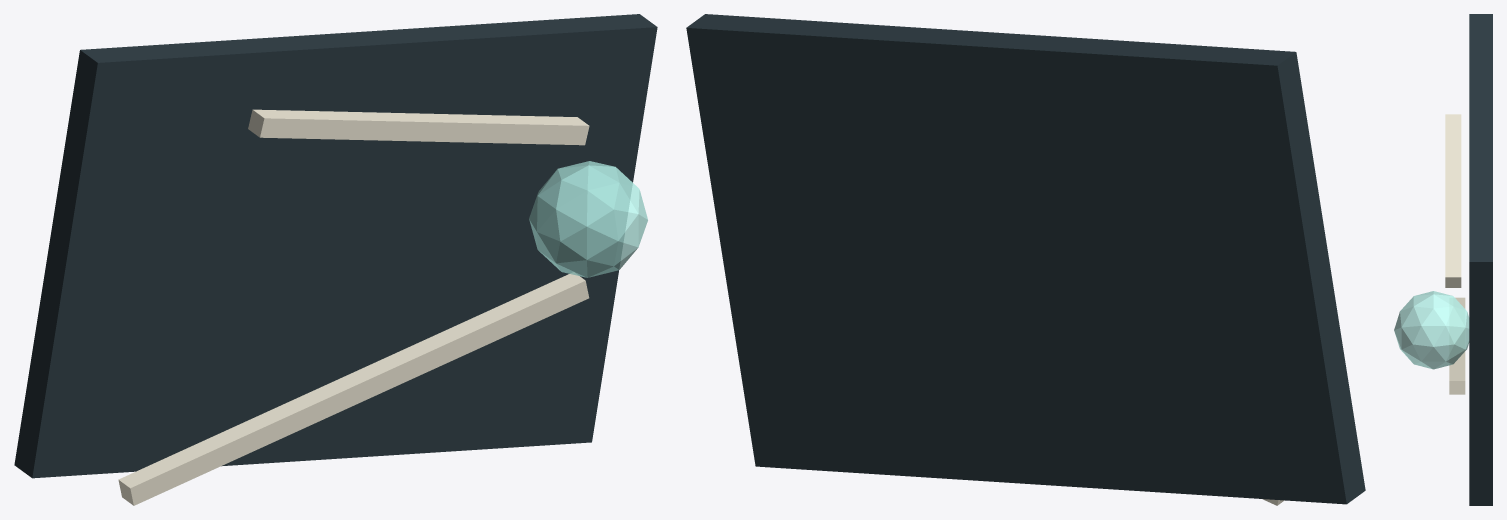
Rendered from 02_world_prop_polish.glb.
The picture shows the model from 3 angles, left to right: view 1: azimuth 30°, elevation 25°; view 2: azimuth 150°, elevation 25°; view 3: azimuth 270°, elevation 25°; orthographic projection. The views are drawn at different scales.
Visible parts, largest first — view 1: object_overlay_plate, edge_wear_a, glow_socket, edge_wear_b; view 2: object_overlay_plate; view 3: object_overlay_plate, glow_socket, edge_wear_b, edge_wear_a.
Boxes of the visible parts, box(x1,y1,x2,y2) form: object_overlay_plate: box(14, 14, 657, 478); edge_wear_a: box(118, 273, 589, 505); glow_socket: box(529, 161, 647, 277); edge_wear_b: box(248, 109, 589, 145); object_overlay_plate: box(686, 14, 1365, 504); object_overlay_plate: box(1469, 14, 1492, 505); glow_socket: box(1394, 291, 1469, 369); edge_wear_b: box(1445, 114, 1461, 287); edge_wear_a: box(1449, 297, 1465, 394).
Bounding box in the file's own units: 1.21 × 0.9255 × 0.25.
